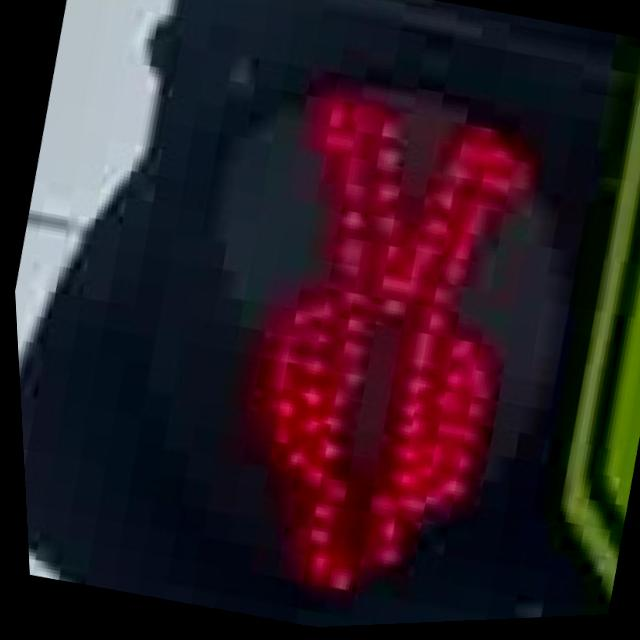red_light: (144, 64, 576, 635)
